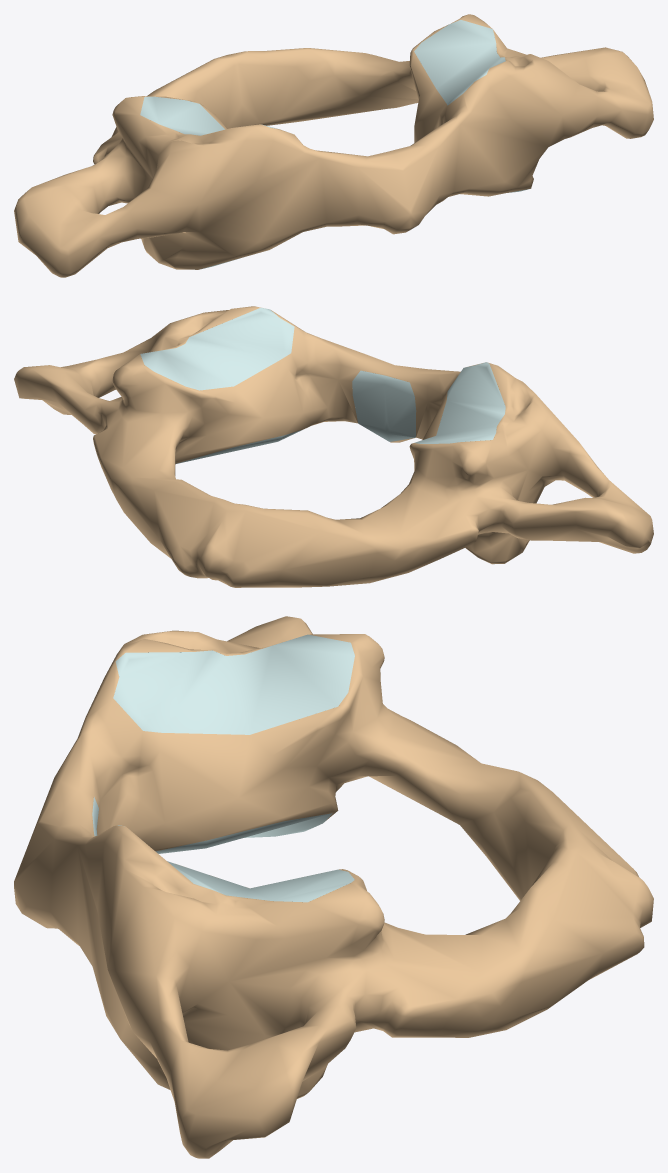
File: Atlas-Labels_Cone.049.glb
3 views of the same model, one above another, from view 1: azimuth 30°, elevation 25°; view 2: azimuth 150°, elevation 25°; view 3: azimuth 270°, elevation 25° (orthographic). The views are drawn at different scales.
Parts seen in each view (by area): view 1: Atlas-Labels_Cone.049; view 2: Atlas-Labels_Cone.049; view 3: Atlas-Labels_Cone.049.
Part boxes in pixels (x1,y1,x2,y2): Atlas-Labels_Cone.049: [14, 14, 653, 277]; Atlas-Labels_Cone.049: [14, 306, 653, 587]; Atlas-Labels_Cone.049: [14, 616, 653, 1158].
Bounding box in the file's own units: 0.0861 × 0.0196 × 0.0491.
